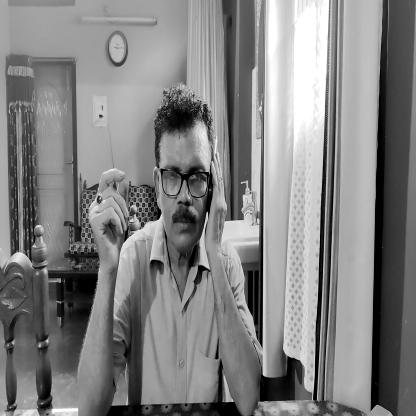Normal: (152, 88, 214, 256)
